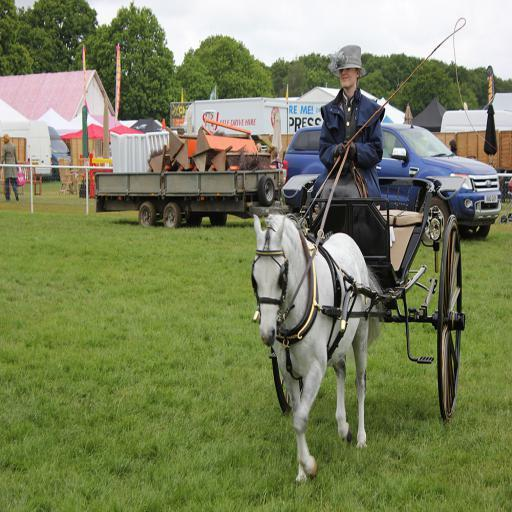horse: (252, 208, 384, 480)
